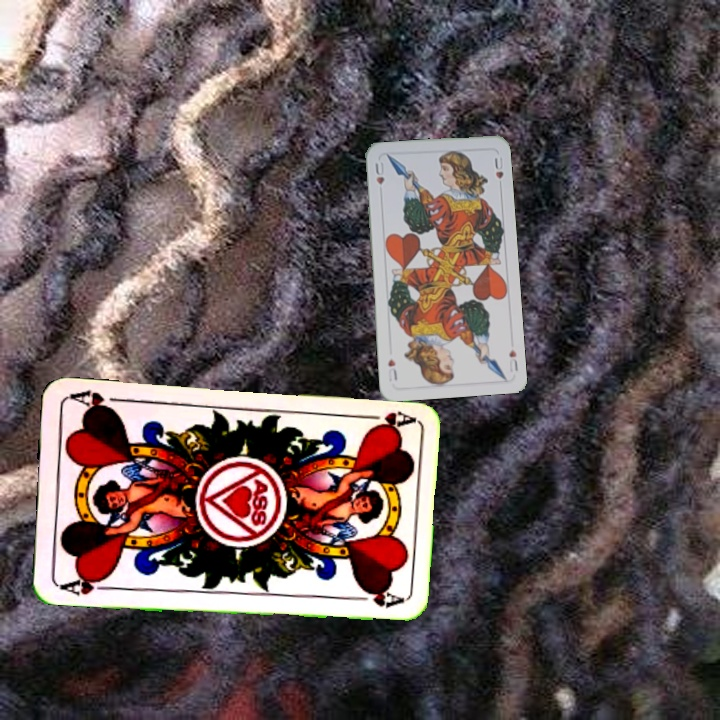HA: (53, 571, 112, 598), (356, 407, 415, 434)
HU: (371, 158, 387, 187), (505, 345, 521, 374)
